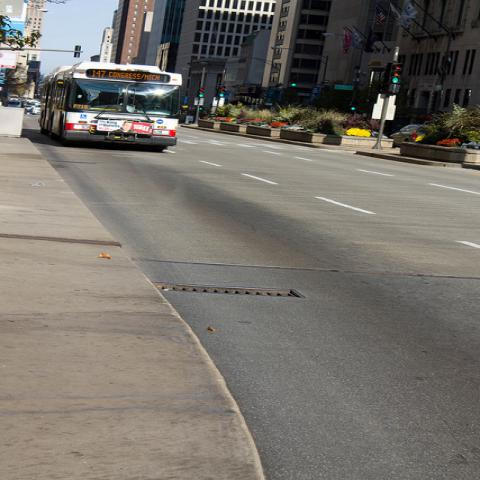bus: (38, 61, 182, 151)
car: (390, 124, 427, 147), (23, 104, 41, 115)
